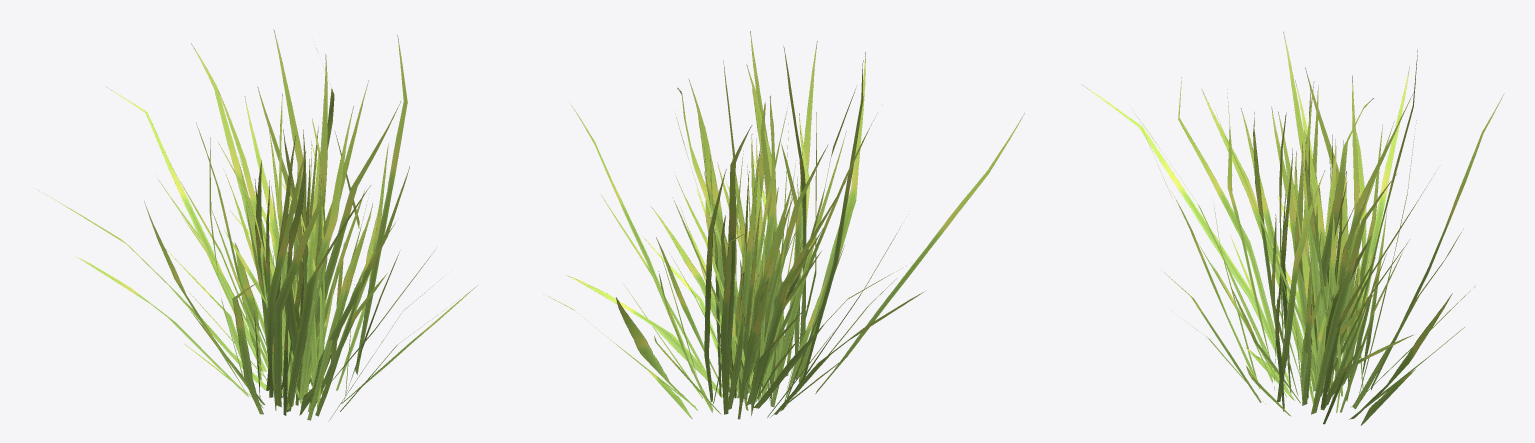
Rendered from grass_1.fbx.
3 renders of one model, left to right at view 1: azimuth 30°, elevation 25°; view 2: azimuth 150°, elevation 25°; view 3: azimuth 270°, elevation 25°, orthographic. The views are drawn at different scales.
Parts seen in each view (by area): view 1: Grass1_Grass1_Mat_0; view 2: Grass1_Grass1_Mat_0; view 3: Grass1_Grass1_Mat_0.
Boxes of the visible parts, <box> form: Grass1_Grass1_Mat_0: <box>38,29,477,420</box>; Grass1_Grass1_Mat_0: <box>548,31,1024,419</box>; Grass1_Grass1_Mat_0: <box>1081,31,1504,425</box>.
Bounding box in the file's own units: 64.92 × 58.94 × 67.69.
1 material, 1 textured.
